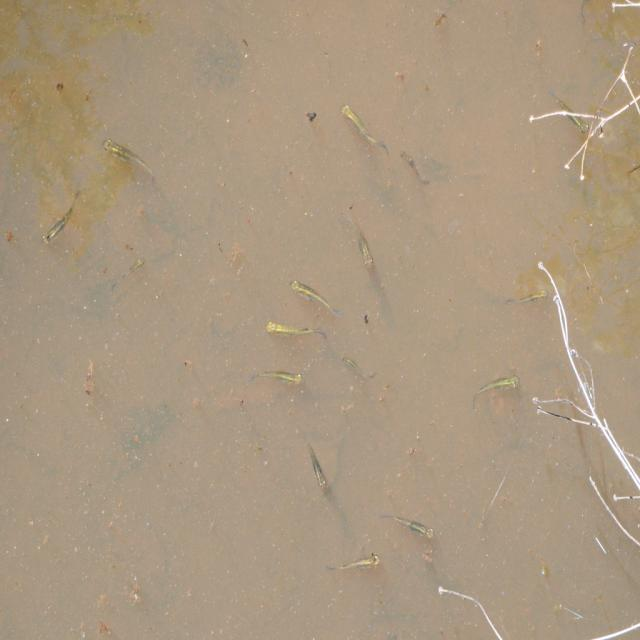Sivrisinek Baligi: (100, 131, 156, 190), (339, 100, 390, 156), (340, 204, 378, 274), (470, 363, 520, 412), (288, 274, 342, 318), (39, 189, 79, 244), (380, 502, 434, 542), (260, 314, 328, 342), (322, 547, 382, 578), (302, 436, 334, 493), (248, 364, 306, 388), (503, 283, 549, 311)
